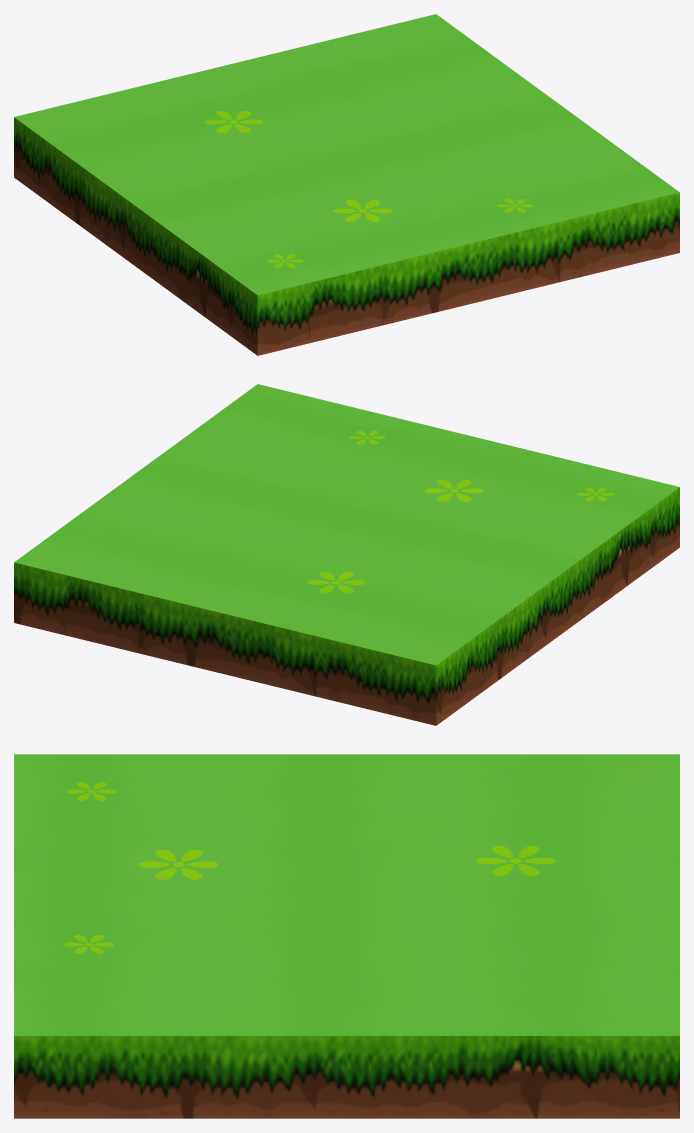
Rendered from Landscape_V1.fbx.
3 renders of one model, top to bottom at view 1: azimuth 30°, elevation 25°; view 2: azimuth 150°, elevation 25°; view 3: azimuth 270°, elevation 25°, orthographic. The views are drawn at different scales.
Parts seen in each view (by area): view 1: Center, Corners2, Corners3, Corners1; view 2: Center, Corners1, Corners4, Corners2; view 3: Center, Corners3, Corners4, Corners2, Corners1.
Part boxes in pixels (x1=…): Center: x1=36, y1=23, x2=657, y2=342; Corners2: x1=227, y1=273, x2=310, y2=355; Corners3: x1=627, y1=171, x2=679, y2=265; Corners1: x1=14, y1=104, x2=64, y2=199; Center: x1=36, y1=393, x2=657, y2=712; Corners1: x1=383, y1=643, x2=466, y2=725; Corners4: x1=14, y1=541, x2=66, y2=635; Corners2: x1=629, y1=474, x2=679, y2=569; Center: x1=14, y1=754, x2=679, y2=1118; Corners3: x1=14, y1=1001, x2=96, y2=1118; Corners4: x1=597, y1=1001, x2=679, y2=1118; Corners2: x1=14, y1=754, x2=95, y2=788; Corners1: x1=598, y1=754, x2=679, y2=788.
Bounding box in the file's own units: 24 × 3.28 × 24.
Materials: 1 (1 with a texture image).
